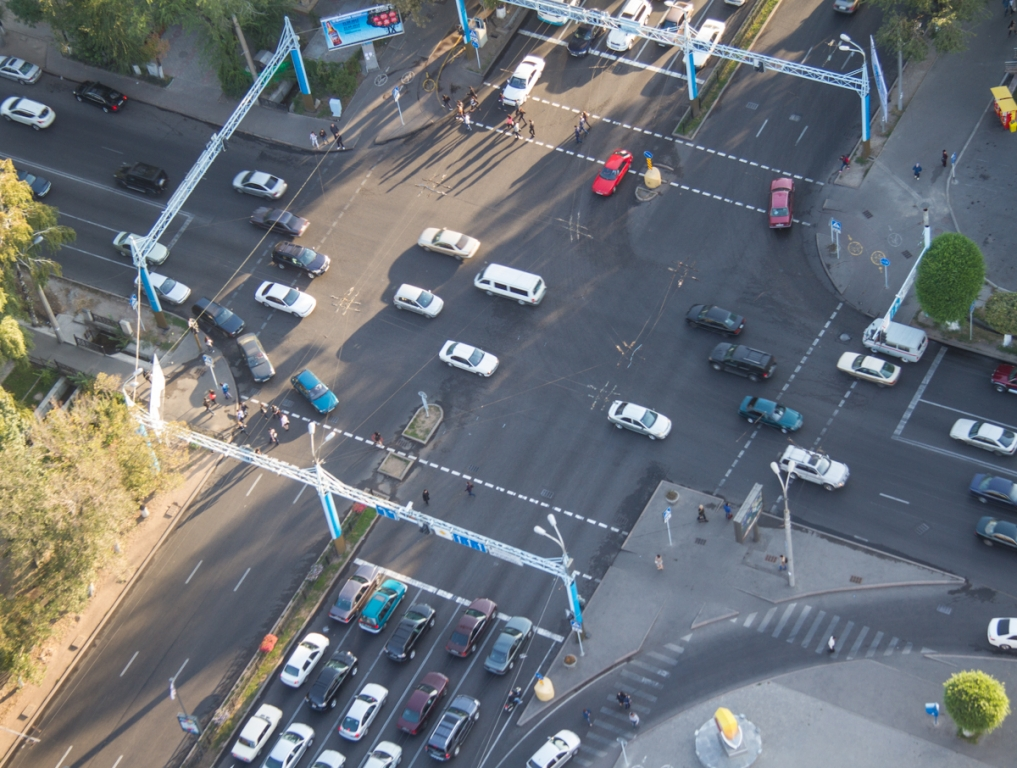car: (422, 693, 481, 761), (304, 649, 360, 712), (395, 670, 449, 735), (327, 562, 381, 626), (382, 603, 437, 665), (444, 597, 498, 659), (229, 702, 282, 764), (472, 263, 548, 306), (778, 444, 849, 490), (482, 614, 533, 676), (337, 682, 389, 742), (861, 317, 928, 363), (358, 578, 408, 635), (279, 631, 329, 688), (948, 417, 1017, 458), (708, 340, 776, 381), (606, 399, 672, 441), (260, 720, 316, 768), (524, 728, 591, 768), (738, 395, 804, 434), (835, 350, 902, 388), (255, 280, 317, 319), (564, 7, 611, 58), (589, 146, 635, 198), (607, 1, 653, 53), (271, 239, 332, 278), (438, 340, 500, 378), (289, 368, 340, 414), (502, 53, 545, 107), (191, 296, 247, 337), (684, 302, 747, 338), (234, 331, 276, 384), (416, 226, 481, 260), (682, 18, 726, 68), (71, 77, 130, 114), (1, 95, 58, 132), (112, 160, 170, 196), (134, 270, 191, 306), (653, 1, 695, 48), (112, 230, 168, 265), (391, 282, 445, 318), (968, 472, 1017, 510), (249, 206, 311, 236), (230, 167, 287, 199), (766, 175, 795, 230), (974, 515, 1017, 552), (1, 55, 45, 84), (361, 739, 402, 768), (986, 614, 1017, 649), (536, 1, 576, 28), (990, 363, 1017, 395), (310, 748, 348, 768), (832, 1, 861, 16)
